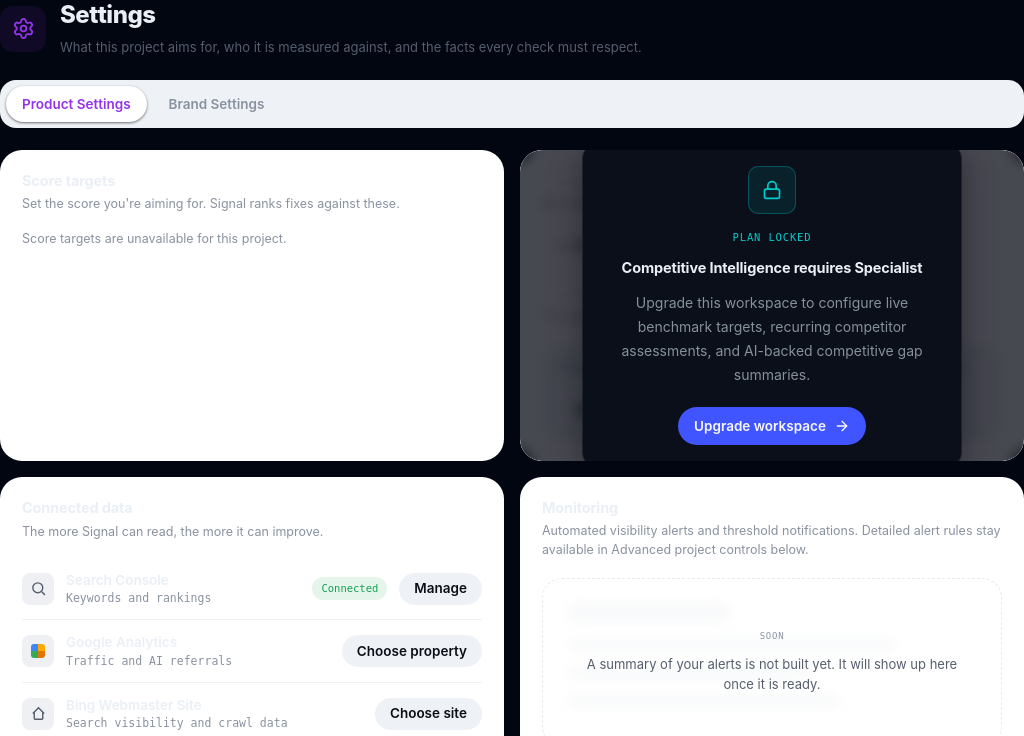
Scenario: ProjectSettingsPage › saves and removes project budget guardrails
Step 1. Click the tab "Brand Settings" → [216, 104], box [153,86,280,122]
(page scrolled)
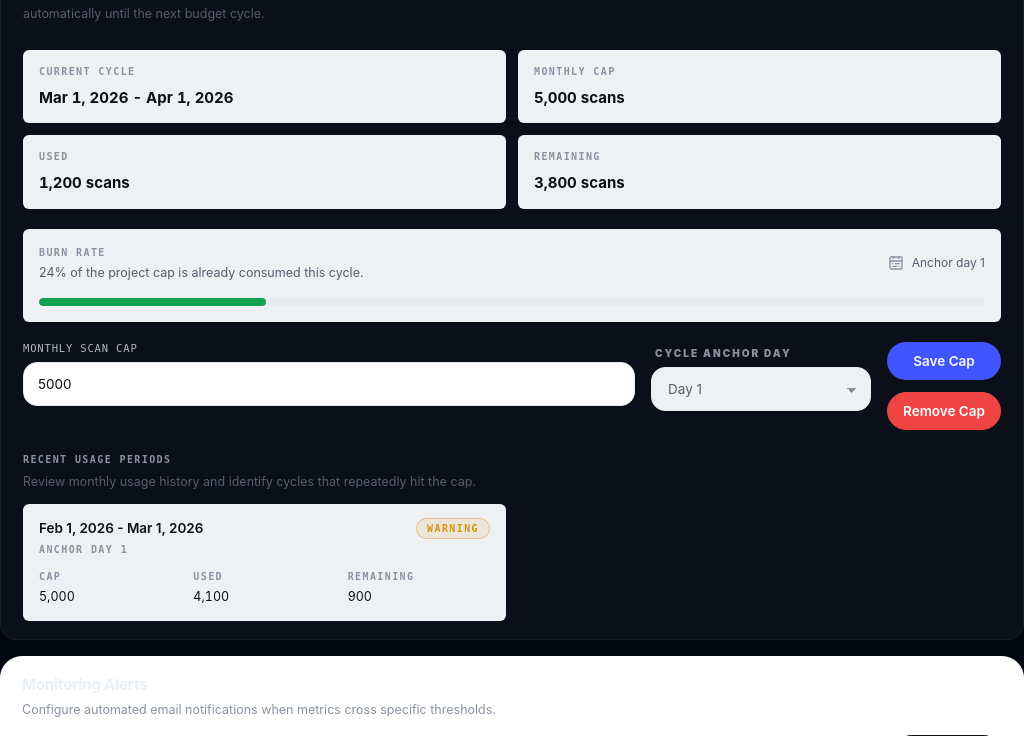
Step 2. Replace the text in the number field labelled "Monthly Scan Cap" with "6000" → [329, 384], box [23,362,635,406]
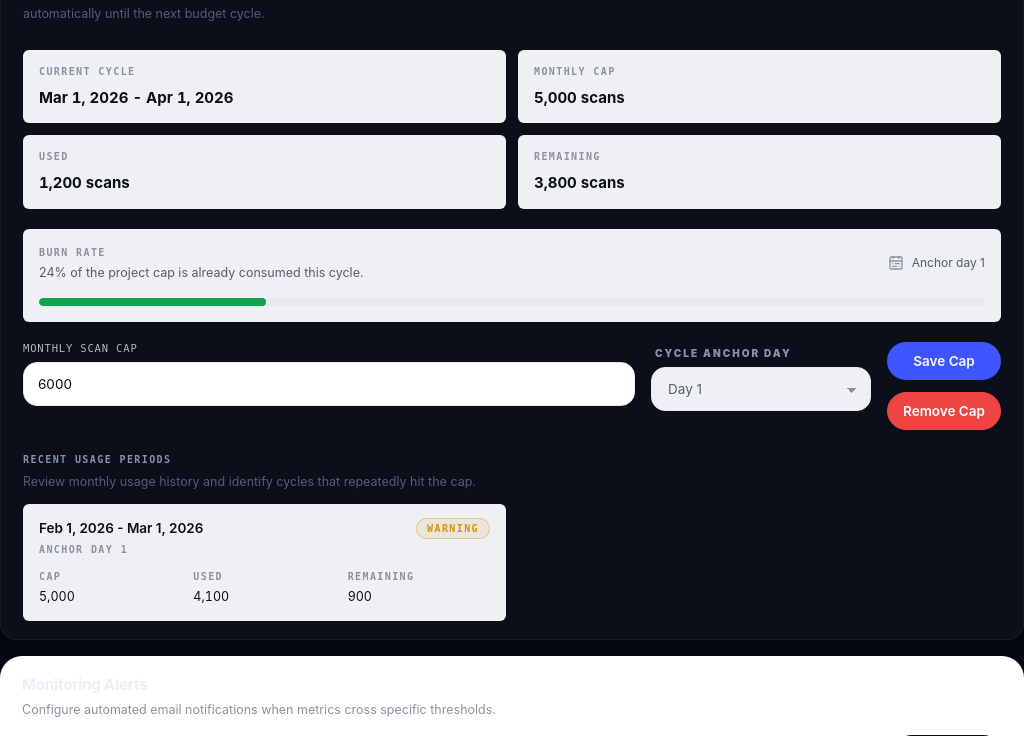
Step 3. Click the button "Save Cap" → [944, 361], box [887,342,1001,380]
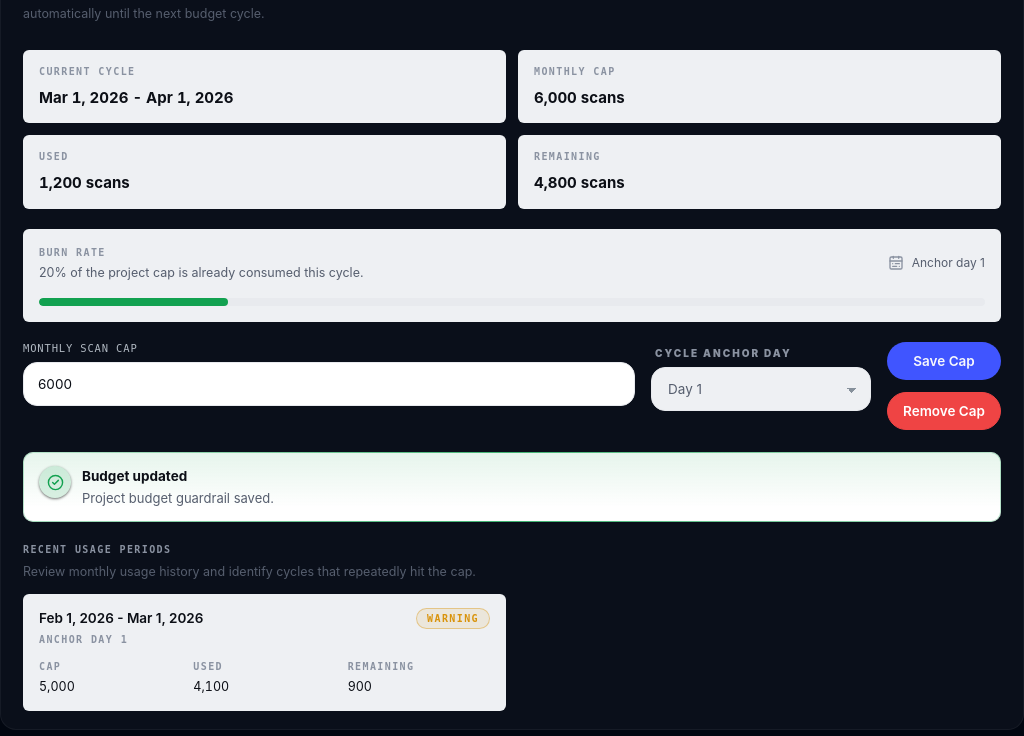
Expected: the text "Project budget guardrail saved." is shown, [82,490,274,506]
Step 4. Click the button "Remove Cap" → [944, 411], box [887,392,1001,430]
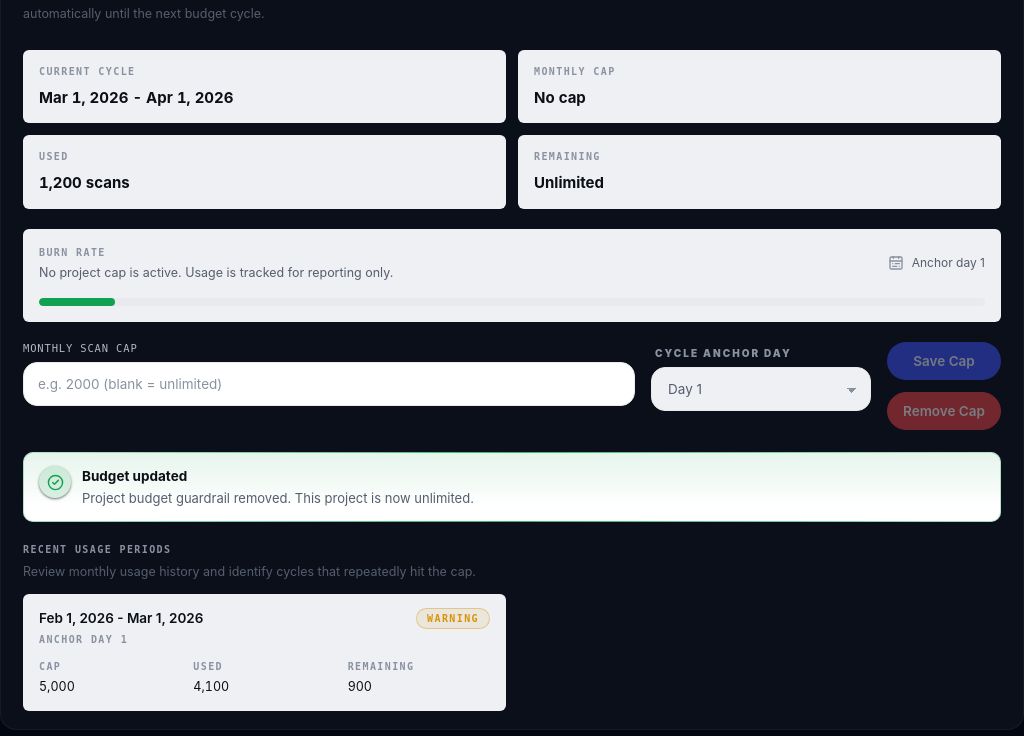
Expected: the text "Project budget guardrail removed. This project is now unlimited." is shown, [82,490,474,506]
